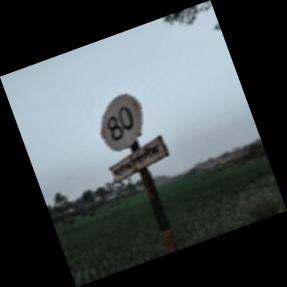Speed-limit: (100, 93, 167, 183)
